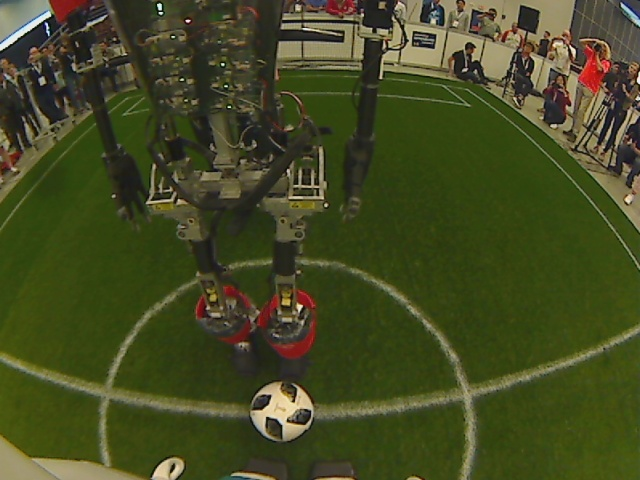ball: (247, 377, 316, 448)
goalpost: (266, 13, 389, 81)
robot: (46, 1, 407, 379)
